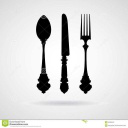fork: (77, 12, 99, 100)
